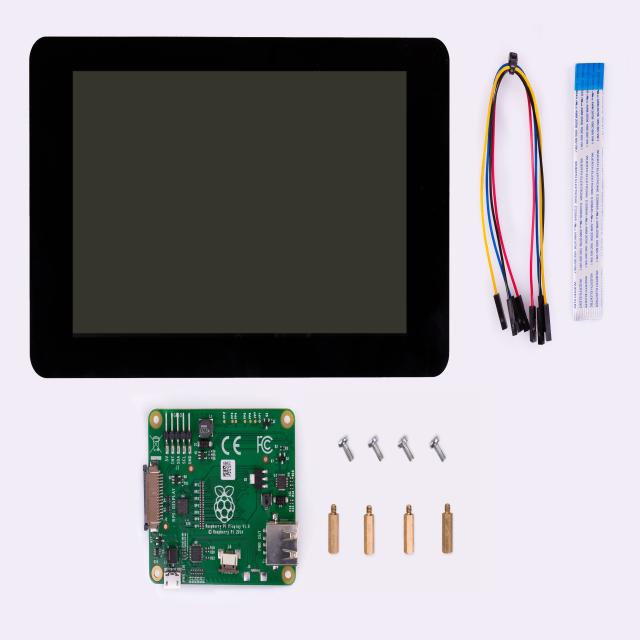Display: (20, 26, 457, 386)
